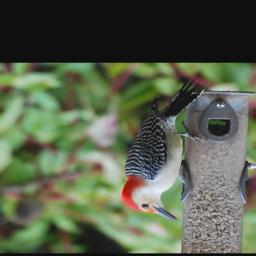Woodpecker: (120, 77, 209, 221)
